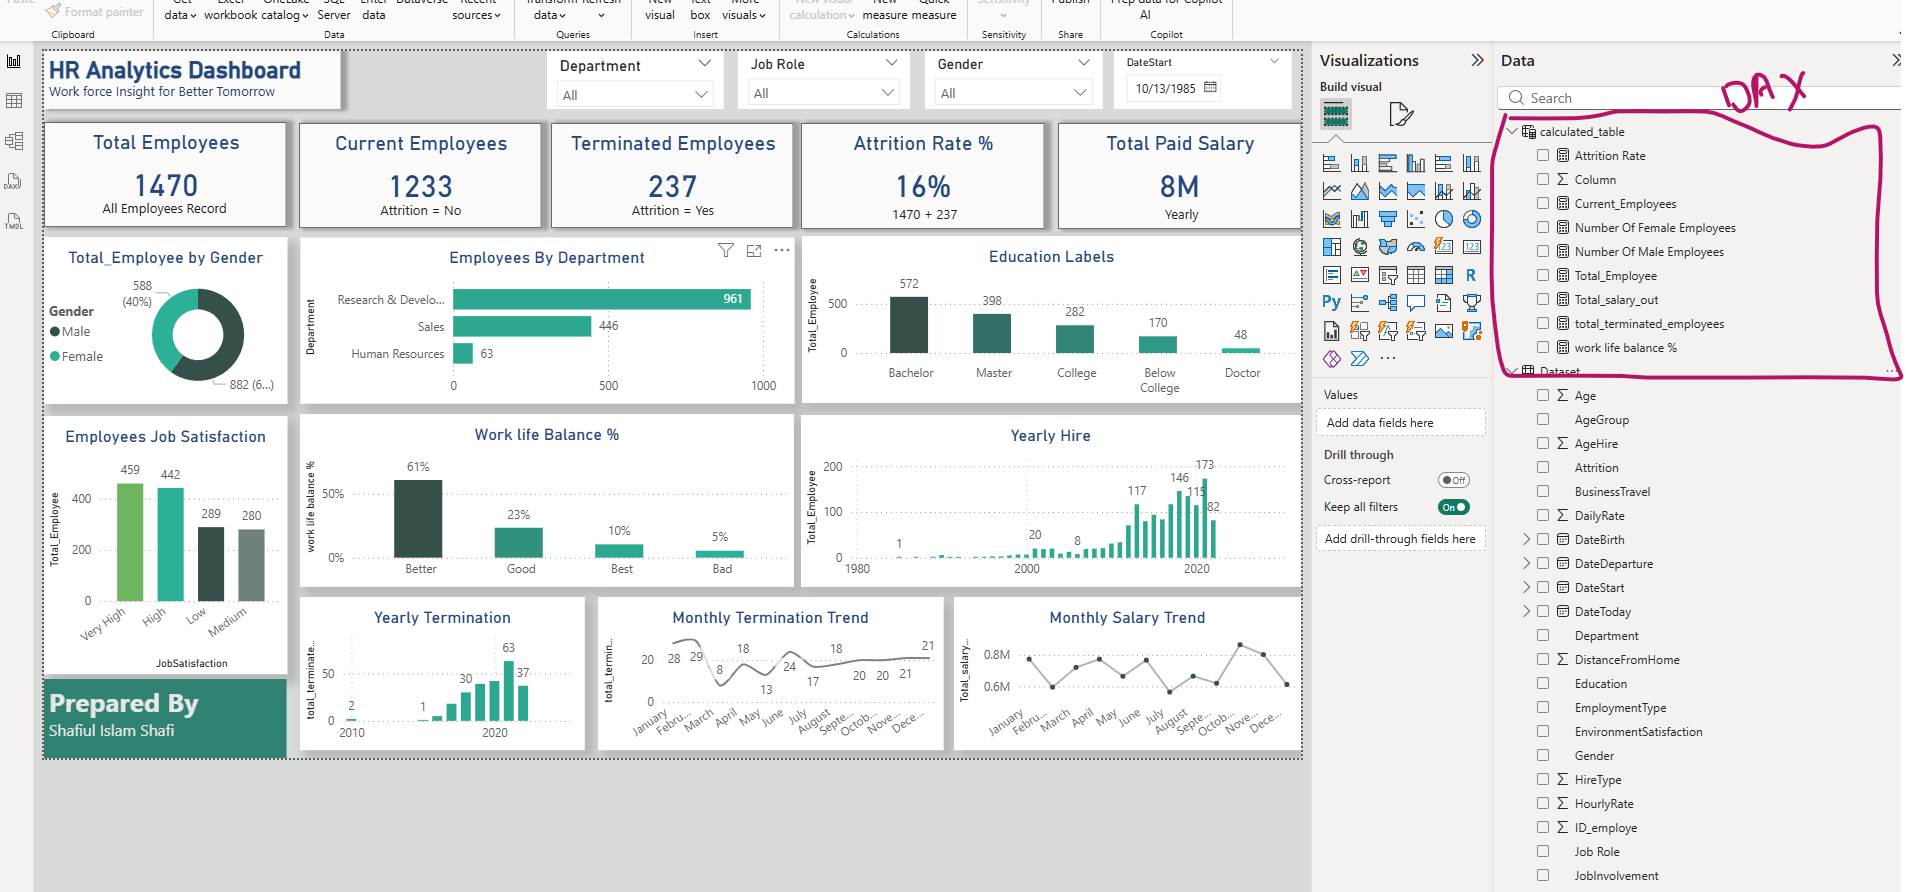

This screenshot's page, from the dashboard's own definition file:
{"tool":"powerbi","page":{"name":"Page 1","canvas":[1280,720],"ordinal":0},"visuals":[{"type":"textbox","box":[0,0,302.1,58.8],"z":0},{"type":"group","id":"g1","title":"Group 1","box":[0,72.3,247.4,107.3],"z":0,"group":"g3"},{"type":"card","title":"Total Employees","fields":{"Values":["calculated_table.Total_Employee"]},"box":[0,72.3,247.4,107.3],"z":0,"group":"g1"},{"type":"textbox","box":[49.4,73,148.1,30],"z":1000},{"type":"group","id":"g2","title":"Group 2","box":[260.1,73.3,247.7,107.4],"z":1000,"group":"g3"},{"type":"card","title":"Current Employees","fields":{"Values":["calculated_table.Current_Employees"]},"box":[260.1,73.3,247.4,107.3],"z":1000,"group":"g2"},{"type":"card","title":"Terminated Employees","fields":{"Values":["calculated_table.total_terminated_employees"]},"box":[516.6,73.3,247.4,107.3],"z":1000,"group":"g4"},{"type":"card","title":"Attrition Rate %","fields":{"Values":["calculated_table.Attrition Rate"]},"box":[771.3,73.3,247.7,107.8],"z":1000,"group":"g5"},{"type":"card","title":"Total Paid Salary","fields":{"Values":["calculated_table.Total_salary_out"]},"box":[1032.3,73.3,247.7,107.8],"z":1000,"group":"g6"},{"type":"textbox","box":[49.4,145.2,148.1,29.9],"z":1000,"group":"g1"},{"type":"group","id":"g3","title":"Group 3","box":[0,72.3,1280,108.4],"z":2000},{"type":"group","id":"g4","title":"Group 2","box":[516.6,73.3,246.8,107.4],"z":2000,"group":"g3"},{"type":"group","id":"g5","title":"Group 2","box":[771.3,73.3,247.7,107.4],"z":3000,"group":"g3"},{"type":"donutChart","fields":{"Category":["Dataset.Gender"],"Y":["calculated_table.Total_Employee"]},"box":[0,189.5,247.7,170.1],"z":3000},{"type":"textbox","box":[294.3,147.4,179,28.2],"z":3001,"group":"g2"},{"type":"textbox","box":[550.8,147.4,179,28.2],"z":3001,"group":"g4"},{"type":"textbox","box":[807.5,151.9,179,28.2],"z":3001,"group":"g5"},{"type":"textbox","box":[1068.5,151.9,179,28.2],"z":3001,"group":"g6"},{"type":"group","id":"g6","title":"Group 2","box":[1032.3,73.3,247.7,107.4],"z":4000,"group":"g3"},{"type":"clusteredBarChart","title":"Employees By Department","fields":{"Category":["Dataset.Department"],"Y":["calculated_table.Total_Employee"]},"box":[261,189.7,503.3,170.1],"z":4000},{"type":"clusteredColumnChart","title":"Education Labels","fields":{"Y":["calculated_table.Total_Employee"],"Category":["Dataset.Education"]},"box":[771.4,188.8,508.6,170.1],"z":5000},{"type":"columnChart","title":"Employees Job Satisfaction","fields":{"Y":["calculated_table.Total_Employee"],"Category":["Dataset.JobSatisfaction"]},"box":[0,371.9,247.9,262.6],"z":6000},{"type":"clusteredColumnChart","title":"Work life Balance %","fields":{"Category":["Dataset.WorkLifeBalance"],"Y":["calculated_table.work life balance %"]},"box":[260.8,370,503.2,176.3],"z":7000},{"type":"clusteredColumnChart","title":"Yearly Hire","fields":{"Y":["calculated_table.Total_Employee"],"Category":["Dataset.DateStart.Variation.Date Hierarchy.Year"]},"box":[771.3,371,508.7,175.4],"z":8000},{"type":"clusteredColumnChart","title":"Yearly Termination","fields":{"Category":["Dataset.DateDeparture.Variation.Date Hierarchy.Year"],"Y":["calculated_table.total_terminated_employees"]},"box":[260.8,556.4,290.2,156.1],"z":9000},{"type":"lineStackedColumnComboChart","title":"Monthly Termination Trend","fields":{"Category":["Dataset.DateDeparture.Variation.Date Hierarchy.Month"],"Y2":["calculated_table.total_terminated_employees"]},"box":[563.8,556.4,351.7,156.1],"z":10000},{"type":"lineStackedColumnComboChart","title":"Monthly Salary Trend","fields":{"Category":["Dataset.DateStart.Variation.Date Hierarchy.Month"],"Y2":["calculated_table.Total_salary_out"]},"box":[926.5,556.4,353.5,156.1],"z":11000},{"type":"textbox","box":[0,639.1,247,80.8],"z":12000},{"type":"slicer","fields":{"Values":["Dataset.Job Role"]},"box":[707,0,175.4,58.8],"z":13000},{"type":"slicer","fields":{"Values":["Dataset.Department"]},"box":[512.4,0,180,58.8],"z":14000},{"type":"slicer","fields":{"Values":["Dataset.Gender"]},"box":[897.1,0,180.9,58.8],"z":15000},{"type":"slicer","fields":{"Values":["Dataset.DateStart"]},"box":[1089.9,0,180.9,58.8],"z":16000}]}

Visuals, with their boxes on the page's 1280x720 design canvas (x1, y1, x2, y2). These are canvas units, not pixel positions in the 1906x892 screenshot, which may show the page scaled, cropped or inside an application window:
textbox: bbox=[0, 0, 302, 59]
"Group 1" group: bbox=[0, 72, 247, 180]
"Total Employees" card: bbox=[0, 72, 247, 180]
textbox: bbox=[49, 73, 198, 103]
"Group 2" group: bbox=[260, 73, 508, 181]
"Current Employees" card: bbox=[260, 73, 508, 181]
"Terminated Employees" card: bbox=[517, 73, 764, 181]
"Attrition Rate %" card: bbox=[771, 73, 1019, 181]
"Total Paid Salary" card: bbox=[1032, 73, 1280, 181]
textbox: bbox=[49, 145, 198, 175]
"Group 3" group: bbox=[0, 72, 1280, 181]
"Group 2" group: bbox=[517, 73, 763, 181]
"Group 2" group: bbox=[771, 73, 1019, 181]
donutChart - Dataset.Gender x calculated_table.Total_Employee: bbox=[0, 190, 248, 360]
textbox: bbox=[294, 147, 473, 176]
textbox: bbox=[551, 147, 730, 176]
textbox: bbox=[808, 152, 986, 180]
textbox: bbox=[1068, 152, 1248, 180]
"Group 2" group: bbox=[1032, 73, 1280, 181]
"Employees By Department" clusteredBarChart: bbox=[261, 190, 764, 360]
"Education Labels" clusteredColumnChart: bbox=[771, 189, 1280, 359]
"Employees Job Satisfaction" columnChart: bbox=[0, 372, 248, 634]
"Work life Balance %" clusteredColumnChart: bbox=[261, 370, 764, 546]
"Yearly Hire" clusteredColumnChart: bbox=[771, 371, 1280, 546]
"Yearly Termination" clusteredColumnChart: bbox=[261, 556, 551, 712]
"Monthly Termination Trend" lineStackedColumnComboChart: bbox=[564, 556, 916, 712]
"Monthly Salary Trend" lineStackedColumnComboChart: bbox=[926, 556, 1280, 712]
textbox: bbox=[0, 639, 247, 720]
slicer - Dataset.Job Role: bbox=[707, 0, 882, 59]
slicer - Dataset.Department: bbox=[512, 0, 692, 59]
slicer - Dataset.Gender: bbox=[897, 0, 1078, 59]
slicer - Dataset.DateStart: bbox=[1090, 0, 1271, 59]
